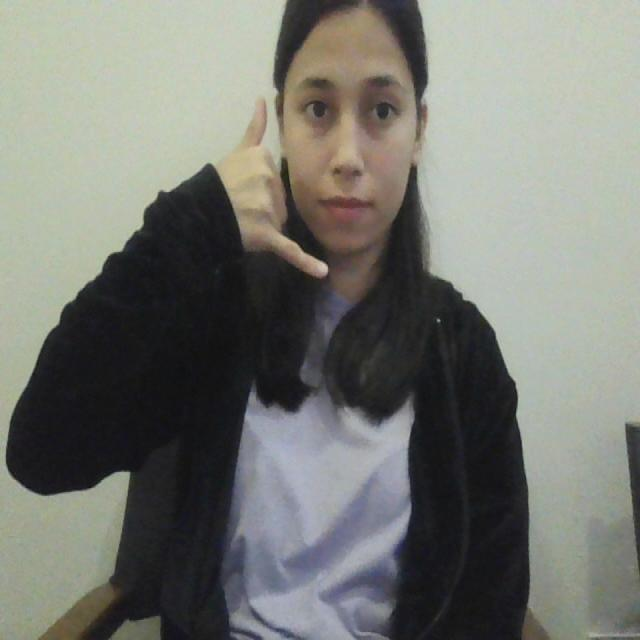Telefon: (193, 93, 335, 287)
